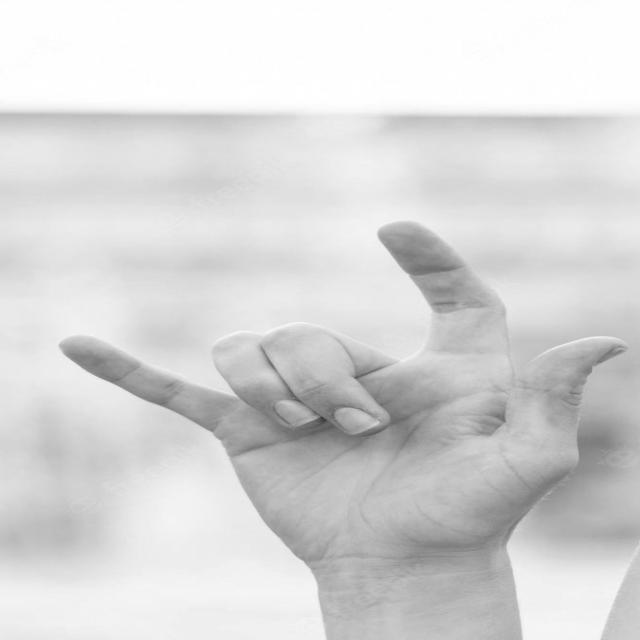i love you: (42, 210, 640, 592)
